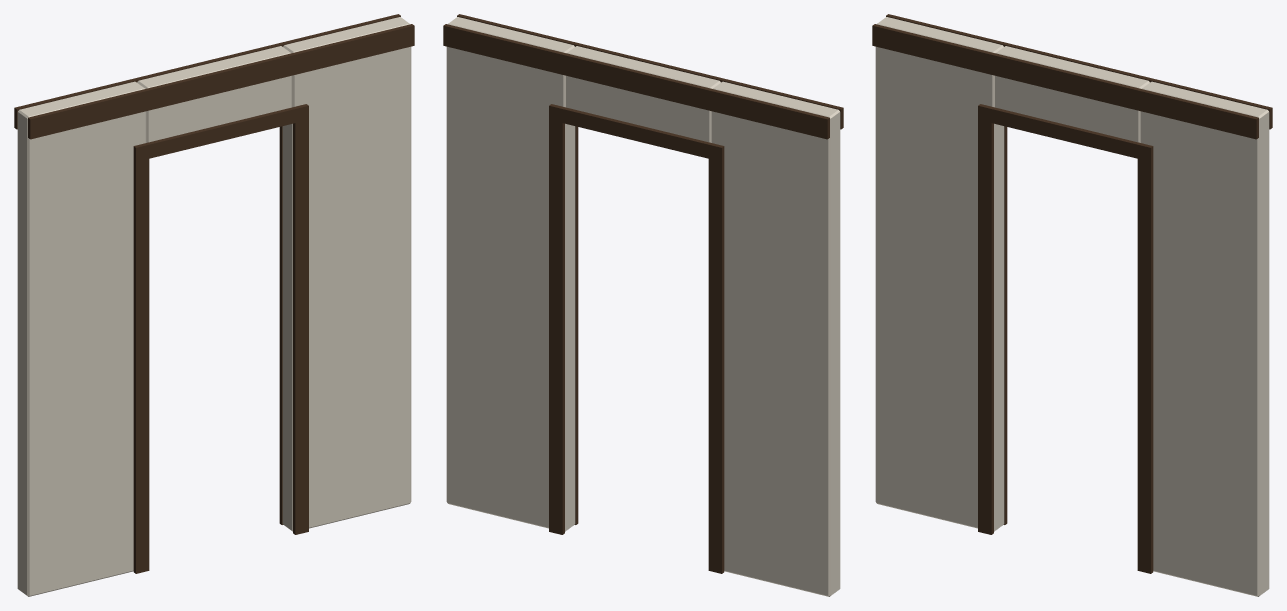
File: mdvl_village_inwall_door_01.glb
The picture shows the model from 3 angles, left to right: view 1: azimuth 30°, elevation 25°; view 2: azimuth 150°, elevation 25°; view 3: azimuth 330°, elevation 25°; orthographic projection.
Parts seen in each view (by area): view 1: mdvl_village_inwall_door_01; view 2: mdvl_village_inwall_door_01; view 3: mdvl_village_inwall_door_01.
Part boxes in pixels (<box>): mdvl_village_inwall_door_01: <box>14,14,414,596</box>; mdvl_village_inwall_door_01: <box>443,14,843,596</box>; mdvl_village_inwall_door_01: <box>872,14,1272,596</box>.
Size of the model in its own units: 2 by 2.39 by 0.144.
1 material, 1 textured.
